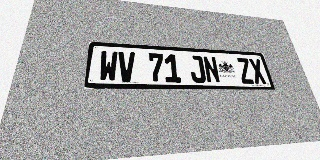1: (163, 54, 181, 83)
7: (148, 53, 165, 82)
J: (188, 55, 207, 83)
N: (202, 56, 221, 83)
V: (118, 51, 135, 82)
W: (98, 50, 118, 82)
X: (248, 58, 267, 84)
Z: (236, 58, 255, 84)
